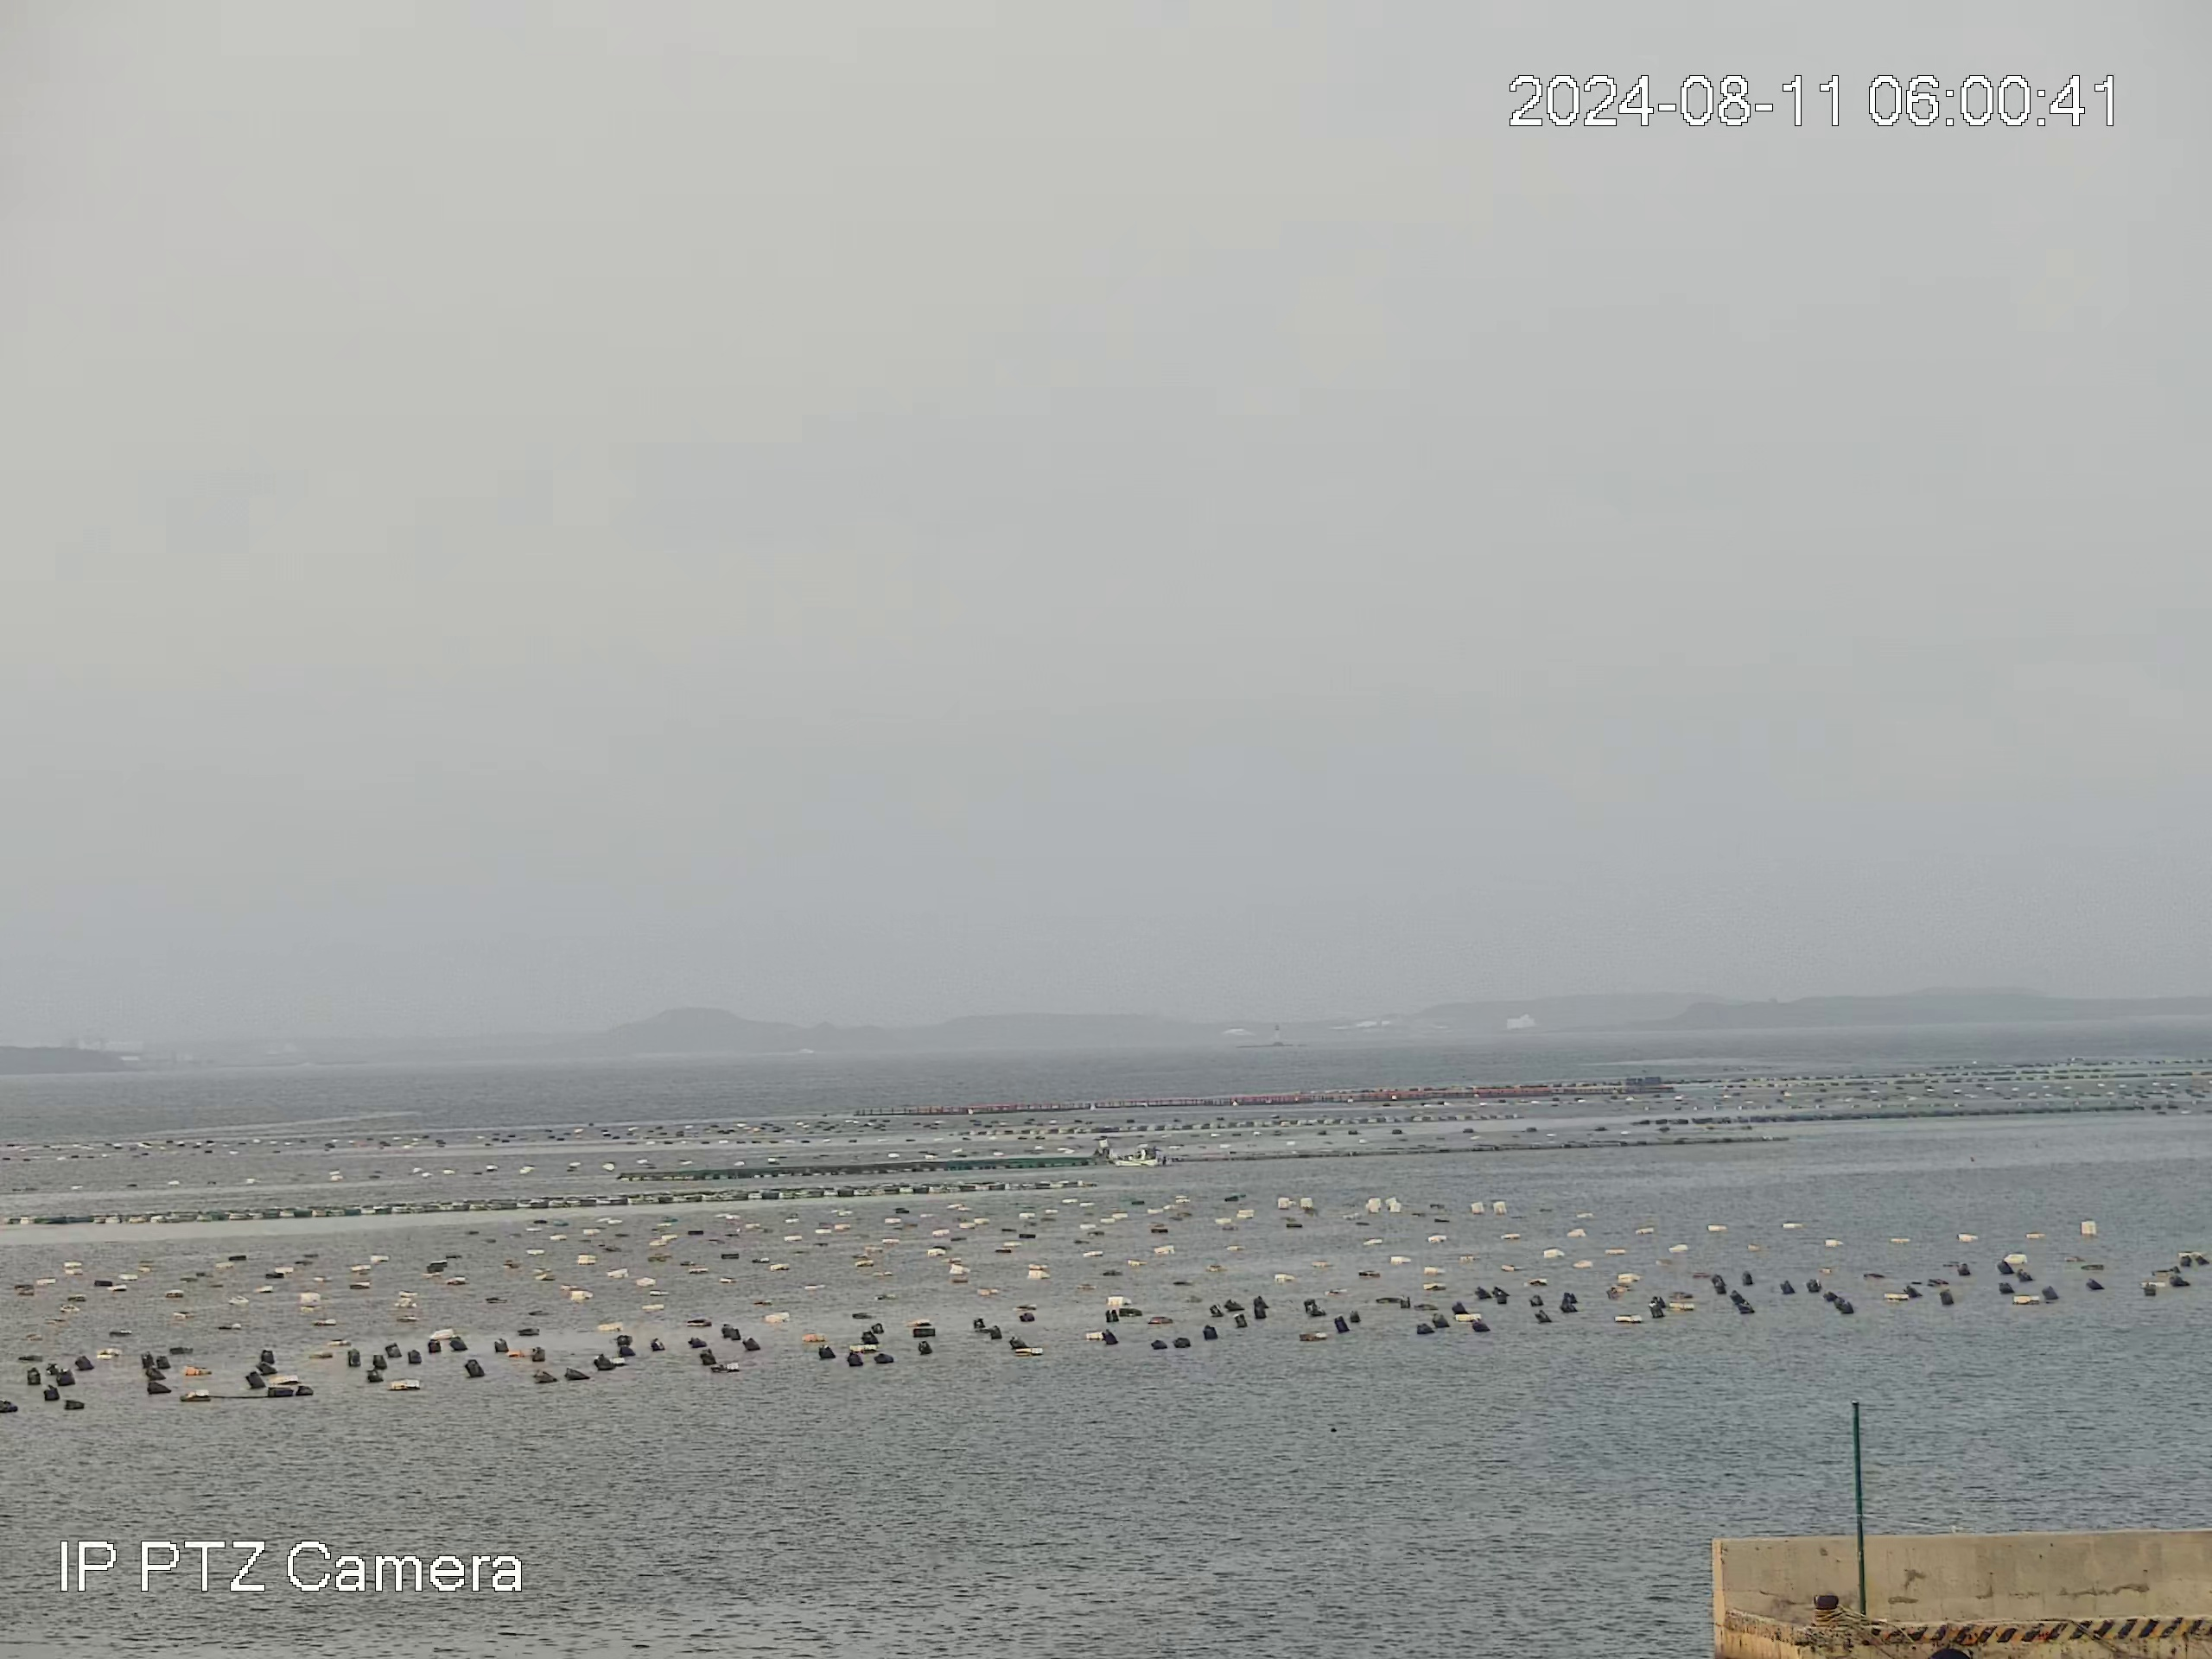boat: (1111, 1141, 1174, 1169)
